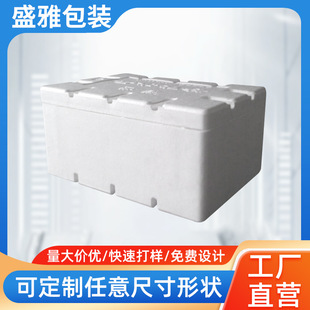Boxes: (42, 73, 266, 220)
